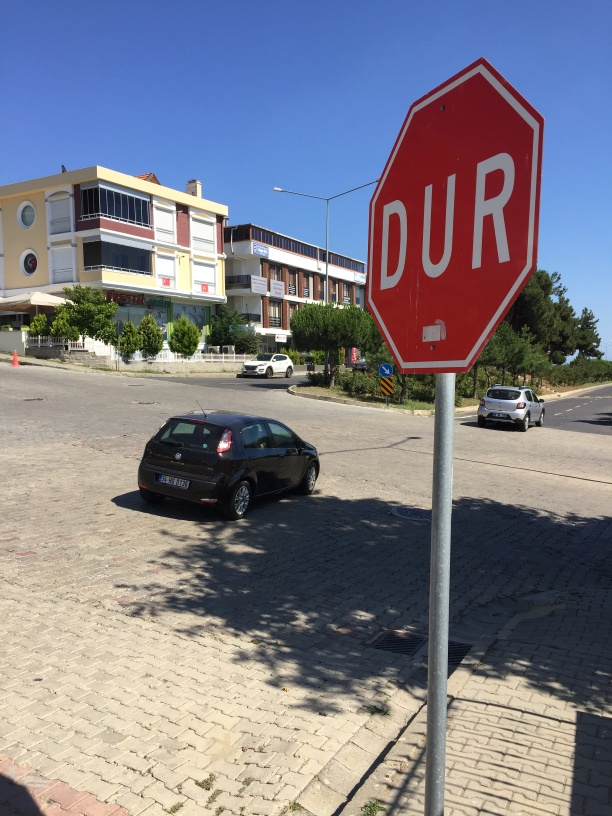arac_dur_isareti: (342, 64, 568, 525), (354, 77, 549, 507)
